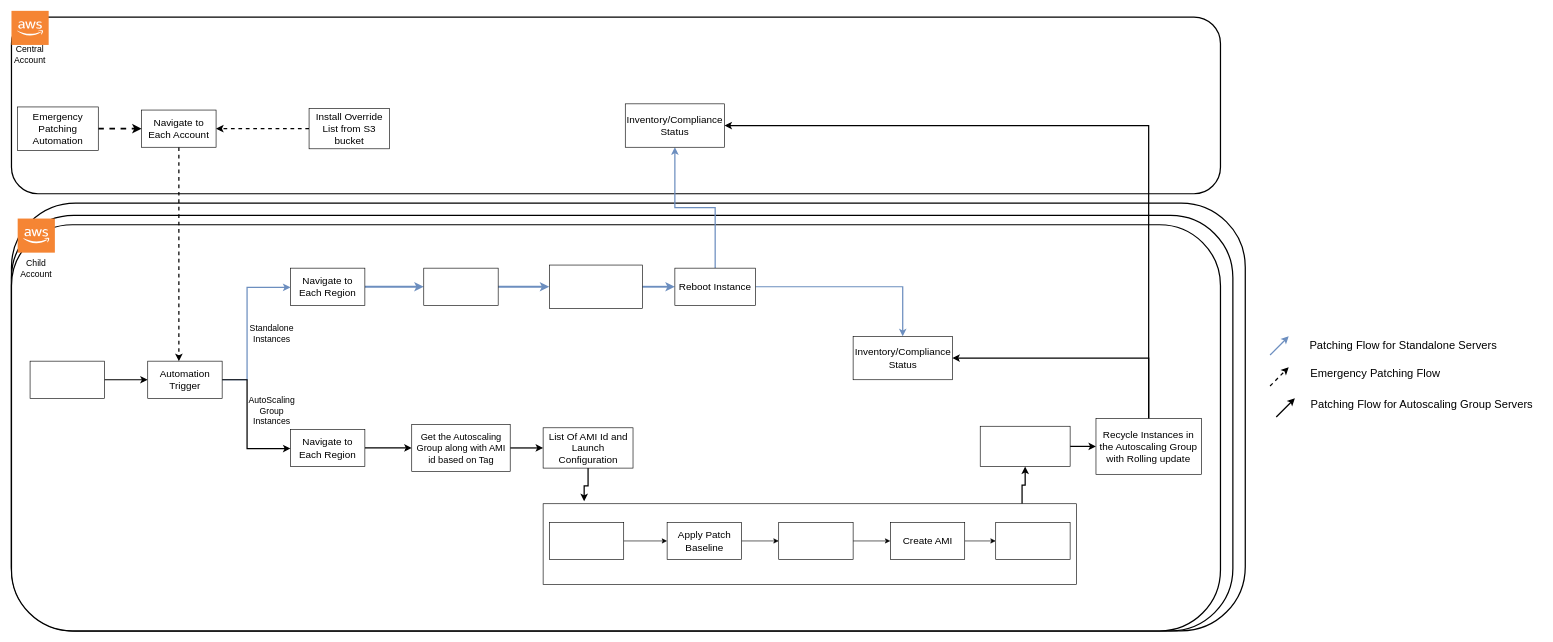
Image size: 1553x642. Some labels were removed from this diagram. Each missing label, with the centre of its shape:
"Apply Patch Baseline based on Patch Group" goes at point 595,286.
"Create an Instance" goes at point 586,541.
"Group Instances based on Tags" goes at point 460,286.
"Start Maintenance Window" goes at point 66,379.
"Stop the Instance" goes at point 815,541.
"Terminate Instance" goes at point 1032,541.
"Update Launch Config with Patched AMI Id" goes at point 1025,446.
